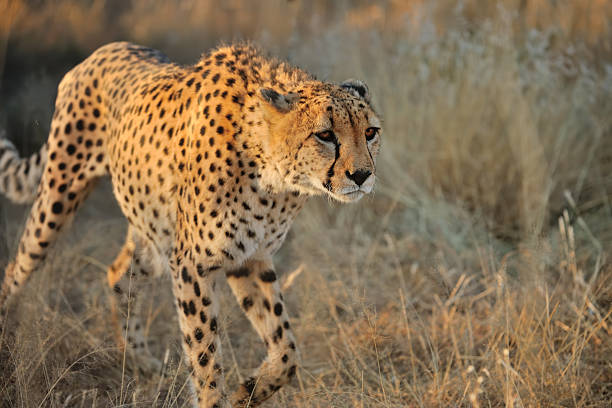cheetah: (250, 59, 398, 211)
